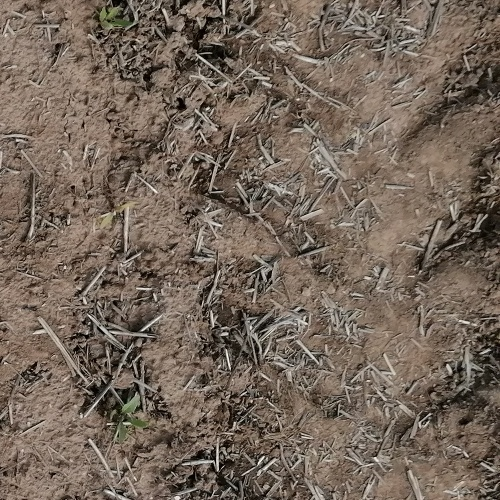beet: (117, 393, 148, 444), (101, 203, 134, 229), (99, 6, 132, 30)
